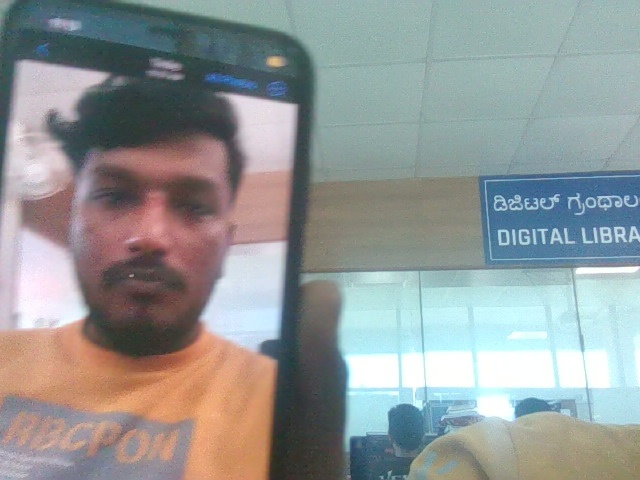fake: (48, 43, 270, 357)
